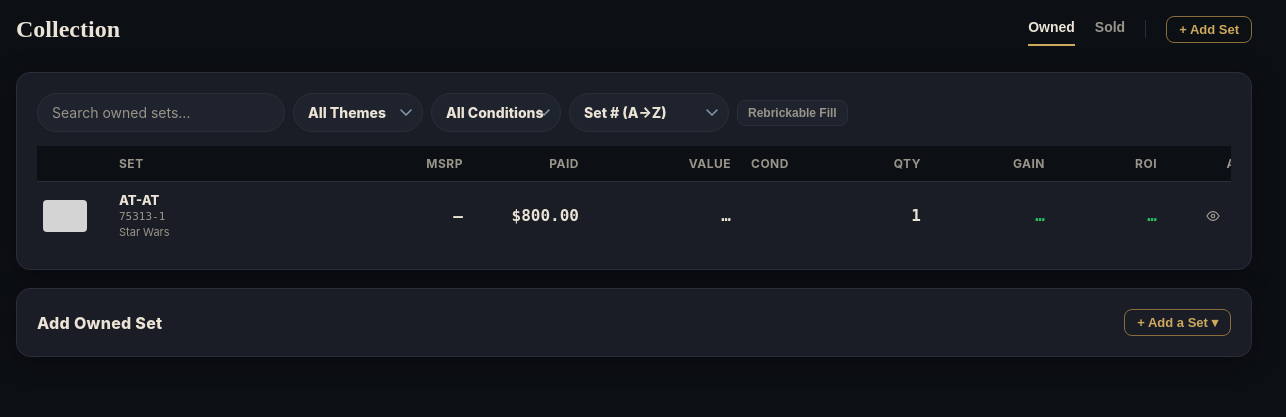
MyCollection — chrome cleanup › the bulk-action band is hidden with no selection and appears once a row is selected (click-to-select)
The image size is (1286, 417).
Expected: the text "Delete Selected" is not shown
Expected: the row "AT-AT 75313-1 Star Wars — $800.00 … 1 … …" is shown, [37,182,1231,250]
Click the row "AT-AT 75313-1 Star Wars — $800.00 … 1 … …": (656, 216) [37,182,1274,250]
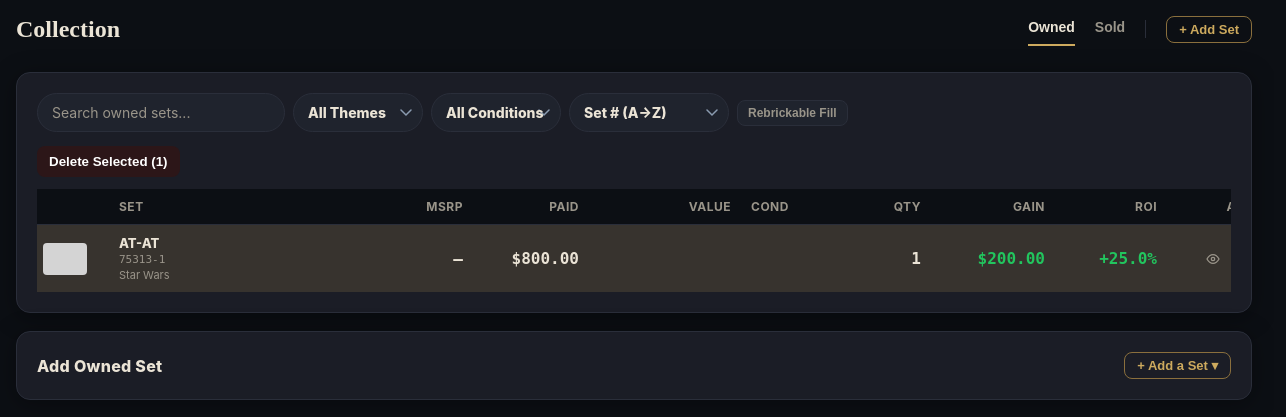
Expected: the text "Delete Selected (1)" is shown, [37,146,180,177]
